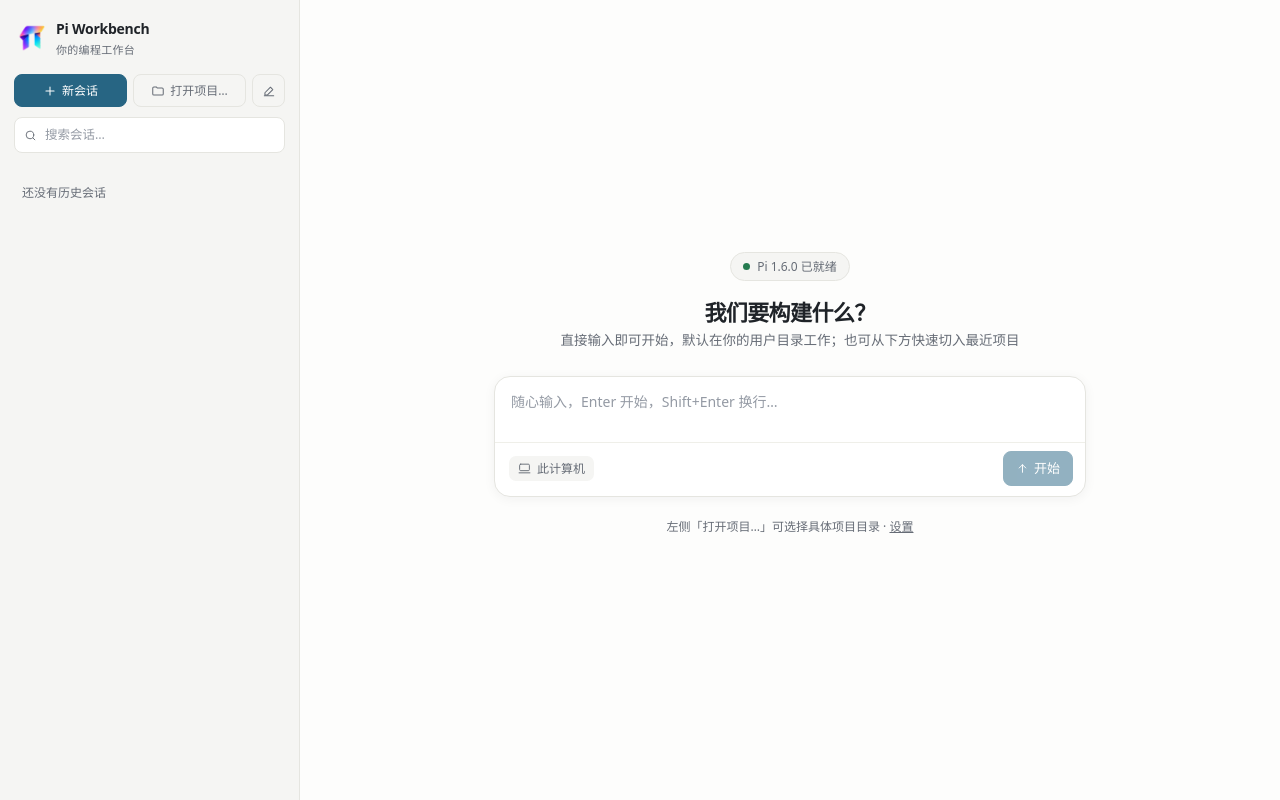
Test: welcome submission › does not open an empty palette on welcome and exposes settings
Check: the text box named "开始新对话" is shown, box [495,377,1085,442]
Press k
Click the button "设置": (902, 527) [890,517,914,536]
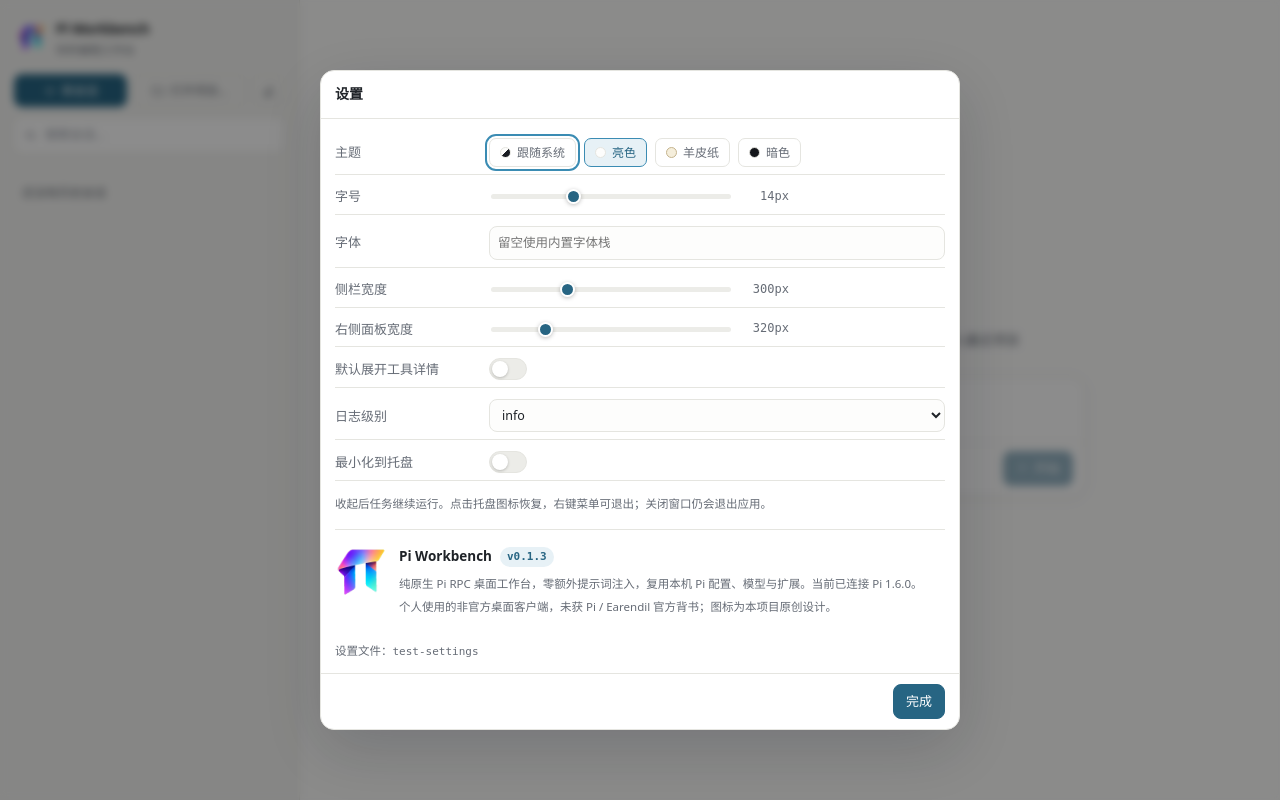
Check: the dialog "设置" is shown, box [320,70,960,730]
